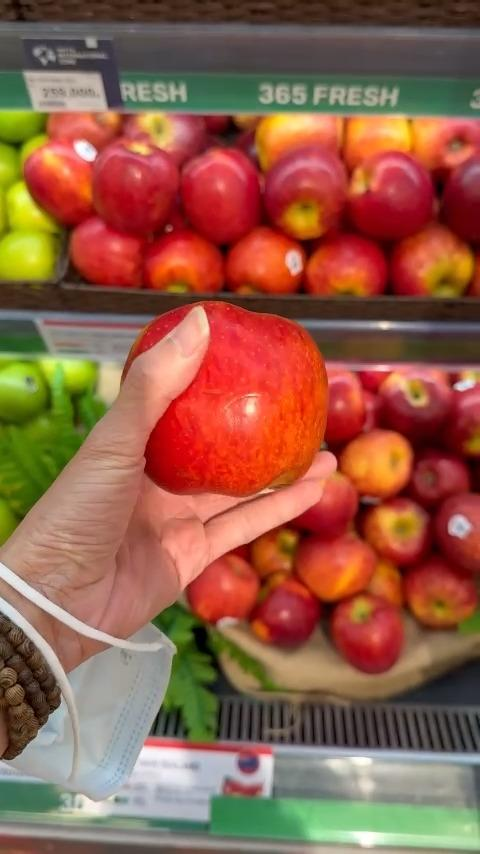apple: (125, 295, 320, 500), (173, 149, 258, 243), (87, 145, 179, 231), (347, 152, 436, 237), (263, 154, 350, 237), (307, 224, 392, 308), (295, 524, 380, 602), (395, 225, 476, 301), (223, 225, 313, 293), (330, 600, 408, 674), (337, 430, 409, 510), (382, 360, 456, 435), (135, 229, 225, 289), (253, 577, 323, 652), (24, 142, 89, 219), (70, 222, 144, 285), (195, 555, 260, 623), (407, 567, 473, 628), (372, 497, 427, 554)
